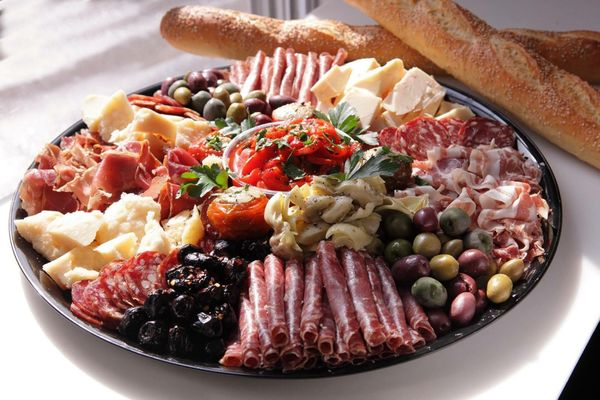curry: (15, 1, 599, 396)
